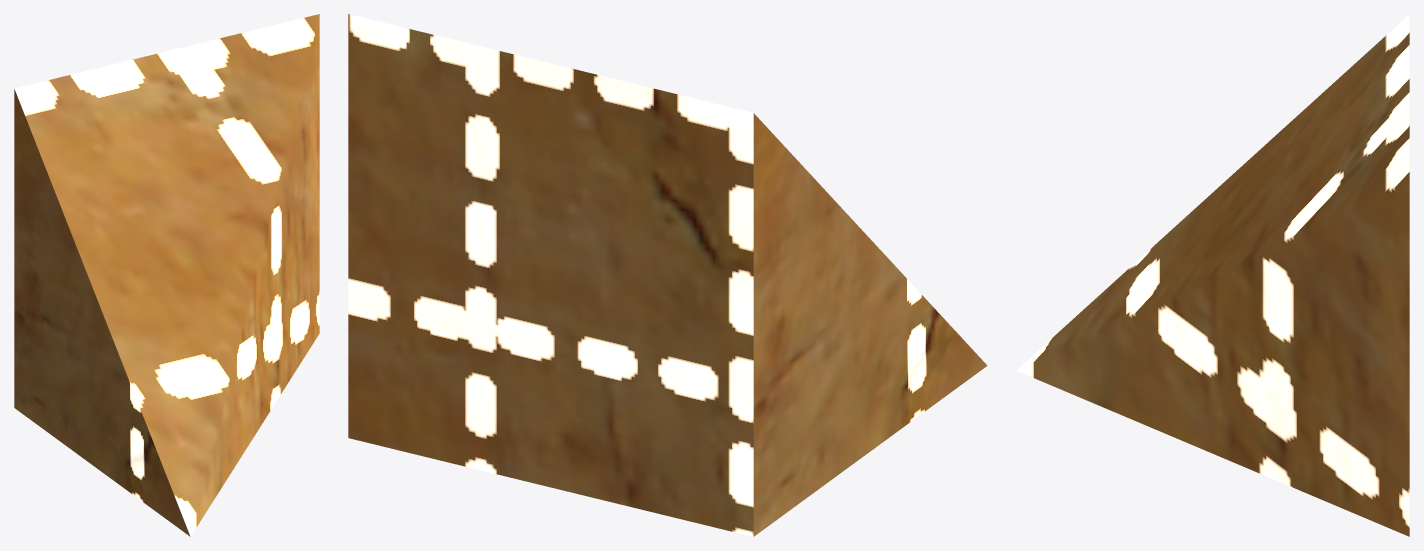
Rendered from block-ramp-edge-out.glb.
3 views of the same model, side by side, from view 1: azimuth 30°, elevation 25°; view 2: azimuth 150°, elevation 25°; view 3: azimuth 270°, elevation 25° (orthographic). The views are drawn at different scales.
Parts seen in each view (by area): view 1: Block-Ramp-Edge-Out; view 2: Block-Ramp-Edge-Out; view 3: Block-Ramp-Edge-Out.
Part boxes in pixels (x1=…): Block-Ramp-Edge-Out: x1=14, y1=14, x2=319, y2=536; Block-Ramp-Edge-Out: x1=348, y1=14, x2=987, y2=536; Block-Ramp-Edge-Out: x1=1016, y1=14, x2=1409, y2=536.
Size of the model in its own units: 2 by 2 by 2.
Materials: 1 (1 with a texture image).
